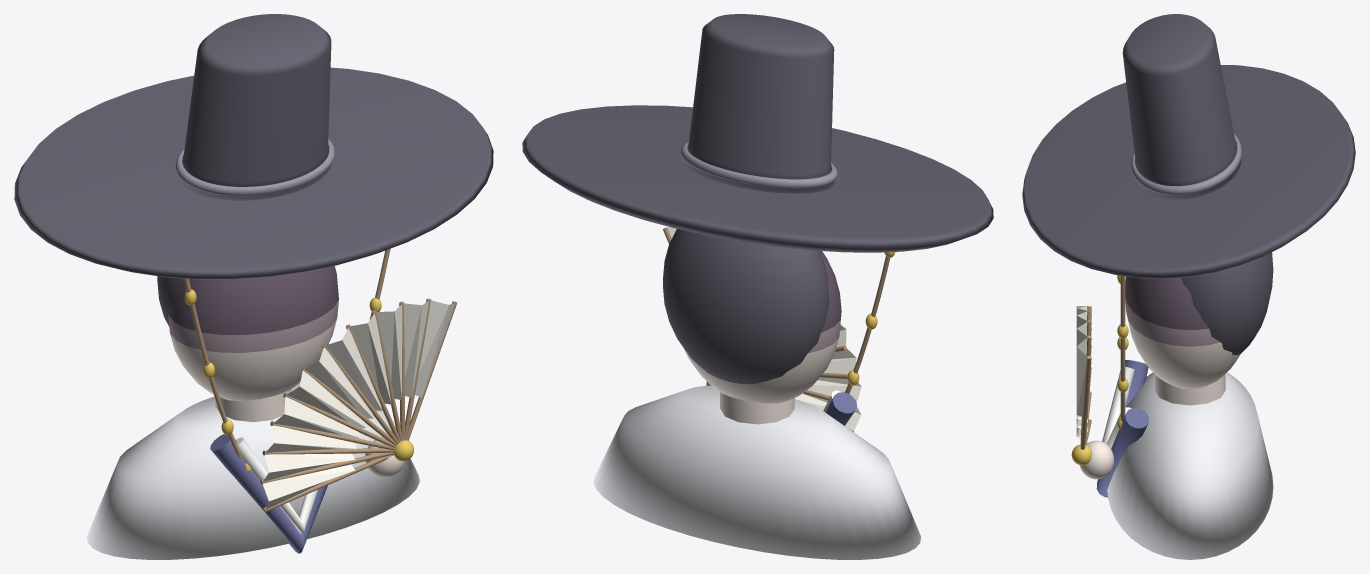
The model's file is jeon_woochi.glb.
3 renders of one model, left to right at view 1: azimuth 30°, elevation 25°; view 2: azimuth 150°, elevation 25°; view 3: azimuth 270°, elevation 25°, orthographic. The views are drawn at different scales.
Bounding box in the file's own units: 27.2 × 28.92 × 18.85.
